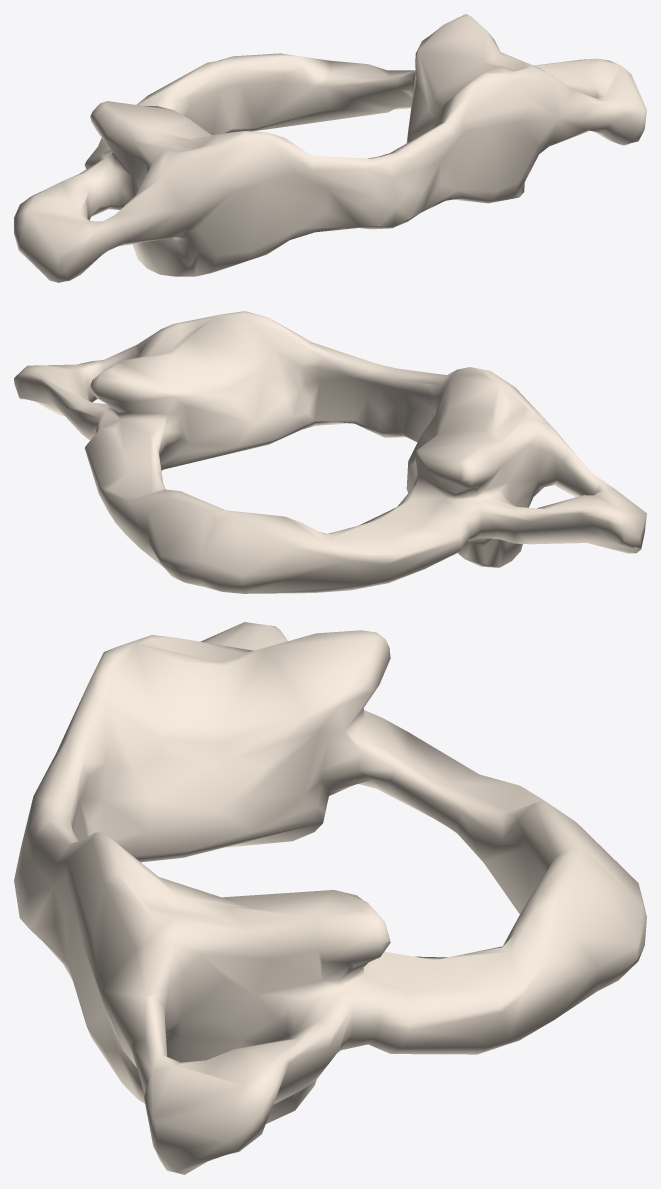
The model's file is c1_atlas.glb.
3 renders of one model, top to bottom at view 1: azimuth 30°, elevation 25°; view 2: azimuth 150°, elevation 25°; view 3: azimuth 270°, elevation 25°, orthographic. The views are drawn at different scales.
Parts seen in each view (by area): view 1: Atlas (C1); view 2: Atlas (C1); view 3: Atlas (C1).
Boxes of the visible parts, x1,y1,x2,y2 form: Atlas (C1): [14, 14, 646, 282]; Atlas (C1): [14, 311, 646, 593]; Atlas (C1): [14, 622, 646, 1174].
Bounding box in the file's own units: 0.0841 × 0.0194 × 0.0465.
